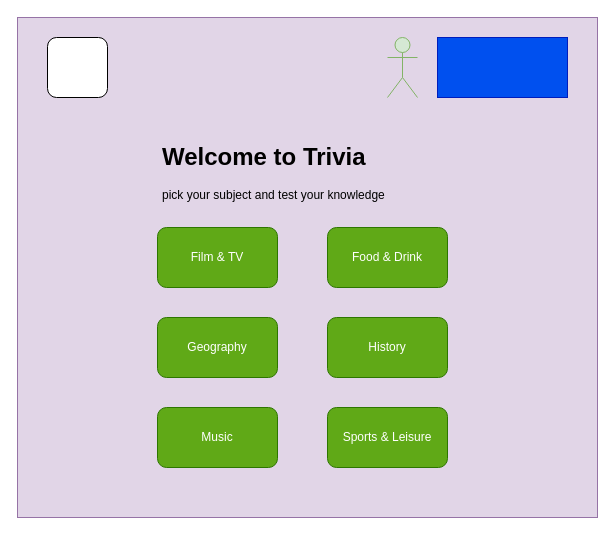
Image size: 615x535. Some labels were removed from this diagram. Each missing label, with the centre of its shape:
"Info" belongs at pixel 77 67.
"Name: Session Score: Recent Achievment" belongs at pixel 502 67.
"Profile Pic" belongs at pixel 402 67.
